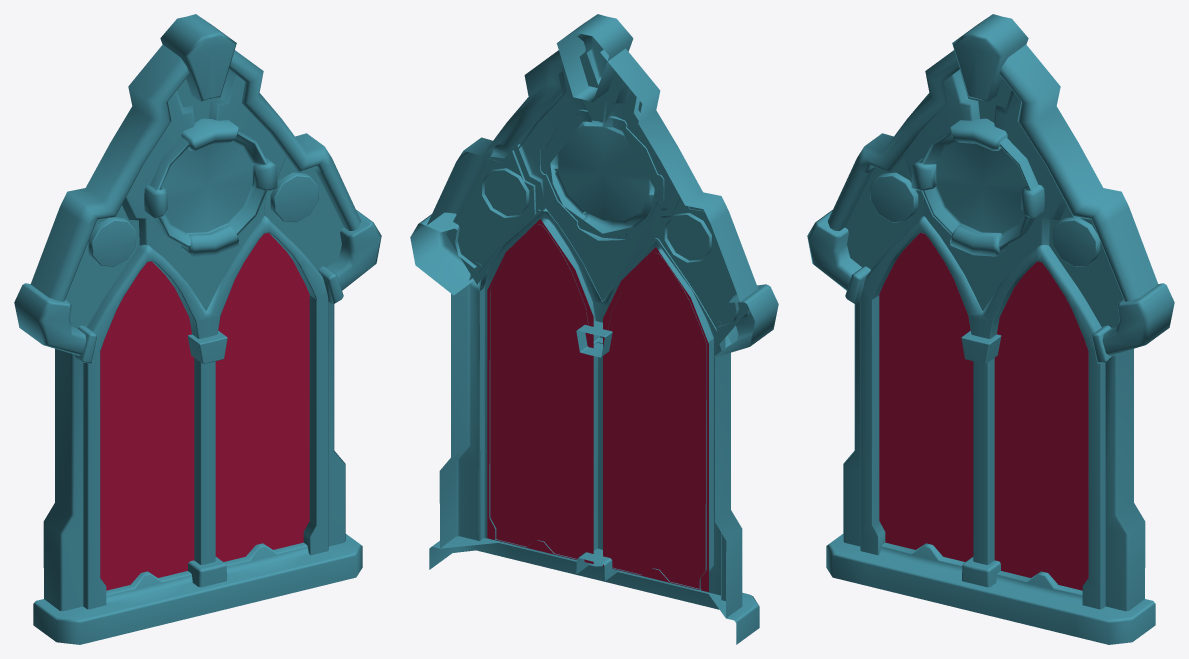
Rendered from LP_window_final_v02.fbx.
3 views of the same model, side by side, from view 1: azimuth 30°, elevation 25°; view 2: azimuth 150°, elevation 25°; view 3: azimuth 330°, elevation 25° (orthographic).
Visible parts, largest first — view 1: LP_BothSidesithUV7; view 2: LP_BothSidesithUV7; view 3: LP_BothSidesithUV7.
Boxes of the visible parts, box(x1,y1,x2,y2) form: LP_BothSidesithUV7: box(14, 14, 381, 644); LP_BothSidesithUV7: box(410, 14, 778, 644); LP_BothSidesithUV7: box(807, 14, 1174, 644).
Bounding box in the file's own units: 8.87 × 14.09 × 1.43.
